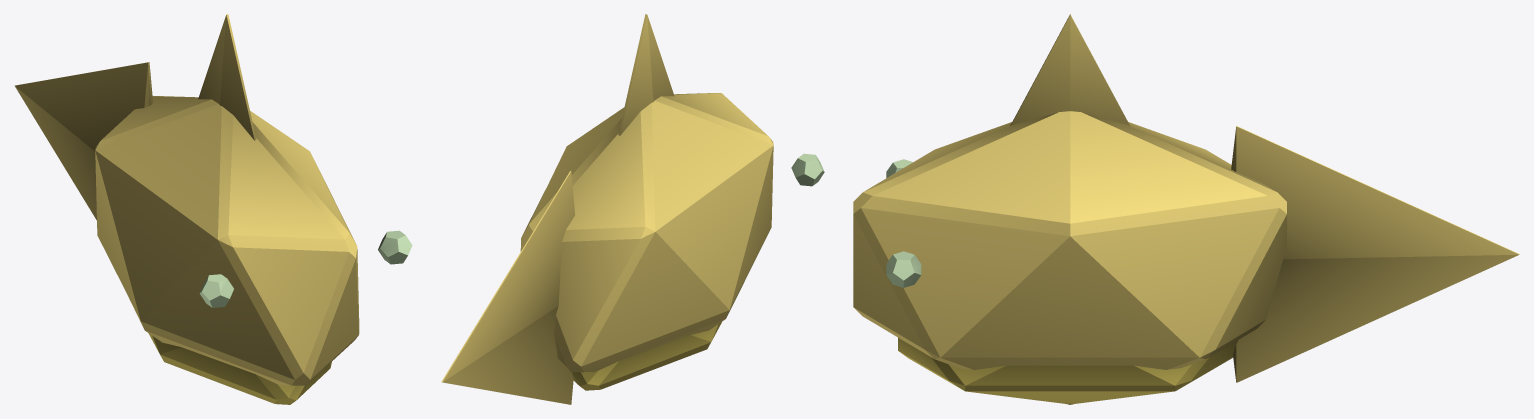
Rendered from FishGold.fbx.
3 views of the same model, side by side, from view 1: azimuth 30°, elevation 25°; view 2: azimuth 150°, elevation 25°; view 3: azimuth 270°, elevation 25° (orthographic). The views are drawn at different scales.
Parts seen in each view (by area): view 1: Body; view 2: Body; view 3: Body.
Boxes of the visible parts, <box> form: Body: <box>15,14,412,404</box>; Body: <box>441,14,824,404</box>; Body: <box>853,14,1519,404</box>.
Bounding box in the file's own units: 0.2694 × 0.4545 × 0.7044.
